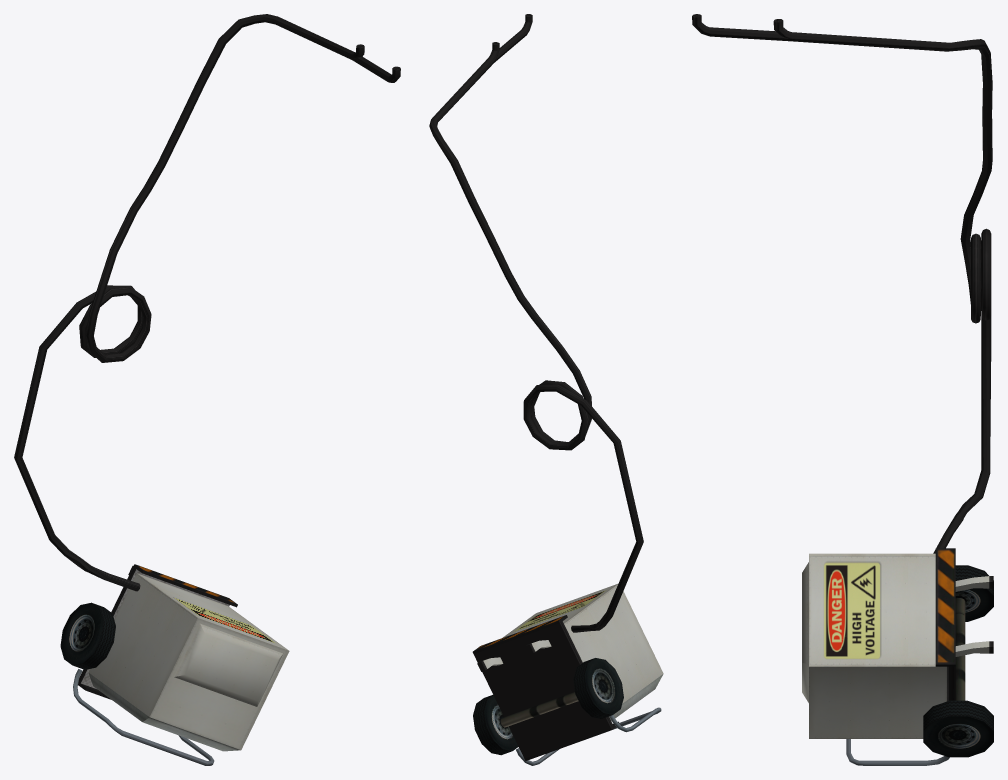
The model's file is external-power.gltf.
3 renders of one model, left to right at view 1: azimuth 30°, elevation 25°; view 2: azimuth 150°, elevation 25°; view 3: azimuth 270°, elevation 25°, orthographic. The views are drawn at different scales.
Visible parts, largest first — view 1: generator, cablelow; view 2: generator, cablelow, cablehigh; view 3: generator, cablelow, cablehigh.
Boxes of the visible parts, x1=… form: generator: x1=60, y1=564, x2=289, y2=765; cablelow: x1=14, y1=14, x2=364, y2=591; generator: x1=472, y1=584, x2=663, y2=765; cablelow: x1=429, y1=42, x2=643, y2=632; cablehigh: x1=494, y1=14, x2=532, y2=62; generator: x1=802, y1=548, x2=993, y2=765; cablelow: x1=773, y1=19, x2=992, y2=553; cablehigh: x1=692, y1=14, x2=792, y2=41.
Size of the model in its own units: 1.84 by 4.91 by 1.65.
1 material, 1 textured.
